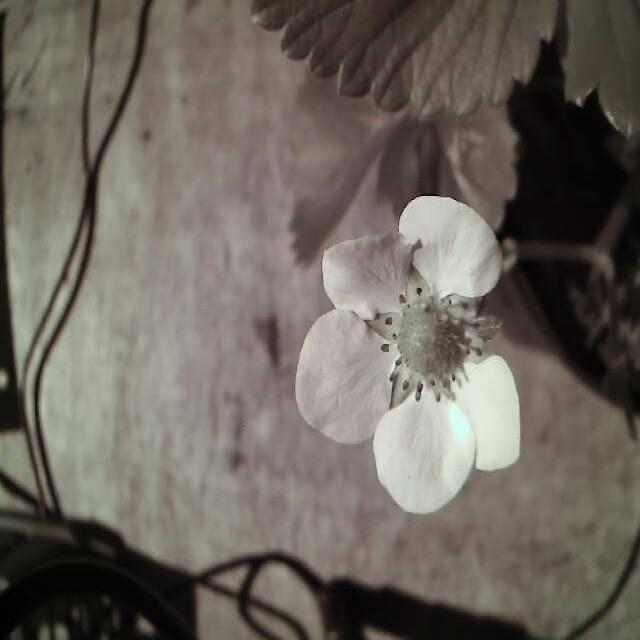flower: (293, 186, 528, 523)
